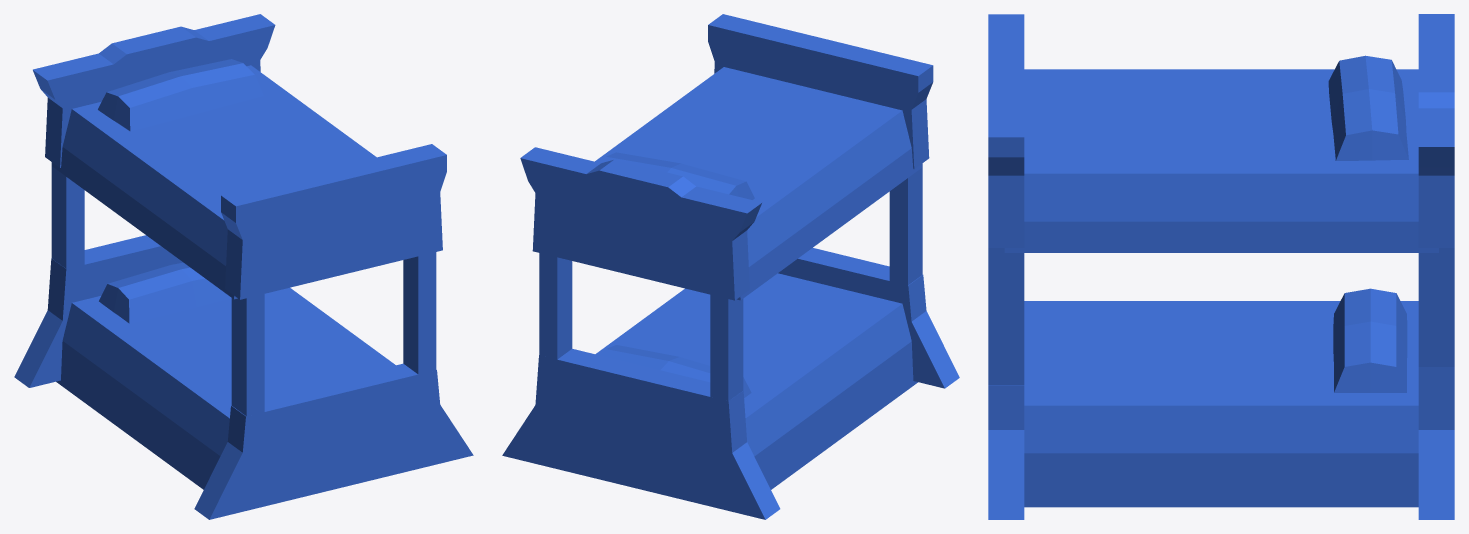
The model's file is Collision_Bed_Bunk.fbx.
3 views of the same model, side by side, from view 1: azimuth 30°, elevation 25°; view 2: azimuth 150°, elevation 25°; view 3: azimuth 270°, elevation 25° (orthographic). The views are drawn at different scales.
Visible parts, largest first — view 1: UCX_Bed_Bunk_01, UCX_Bed_Bunk_12, UCX_Bed_Bunk_03, UCX_Bed_Bunk_09, UCX_Bed_Bunk_08, UCX_Bed_Bunk_02, UCX_Bed_Bunk_10, UCX_Bed_Bunk_17, UCX_Bed_Bunk_06, UCX_Bed_Bunk_04, UCX_Bed_Bunk_14, UCX_Bed_Bunk_13 (+4 smaller); view 2: UCX_Bed_Bunk_12, UCX_Bed_Bunk_01, UCX_Bed_Bunk_05, UCX_Bed_Bunk_04, UCX_Bed_Bunk_11, UCX_Bed_Bunk_08, UCX_Bed_Bunk_10, UCX_Bed_Bunk_02, UCX_Bed_Bunk_14, UCX_Bed_Bunk_16, UCX_Bed_Bunk_15, UCX_Bed_Bunk_03 (+4 smaller); view 3: UCX_Bed_Bunk_01, UCX_Bed_Bunk_12, UCX_Bed_Bunk_17, UCX_Bed_Bunk_06, UCX_Bed_Bunk_08, UCX_Bed_Bunk_13, UCX_Bed_Bunk_15, UCX_Bed_Bunk_10, UCX_Bed_Bunk_03, UCX_Bed_Bunk_05, UCX_Bed_Bunk_09, UCX_Bed_Bunk_11 (+3 smaller).
Boxes of the visible parts, bbox=[...] form: UCX_Bed_Bunk_01: bbox=[56, 287, 395, 489]; UCX_Bed_Bunk_12: bbox=[52, 65, 376, 299]; UCX_Bed_Bunk_03: bbox=[194, 404, 473, 519]; UCX_Bed_Bunk_09: bbox=[225, 192, 442, 299]; UCX_Bed_Bunk_08: bbox=[221, 144, 446, 239]; UCX_Bed_Bunk_02: bbox=[227, 363, 440, 452]; UCX_Bed_Bunk_10: bbox=[33, 14, 275, 108]; UCX_Bed_Bunk_17: bbox=[98, 59, 263, 131]; UCX_Bed_Bunk_06: bbox=[99, 262, 231, 323]; UCX_Bed_Bunk_04: bbox=[47, 235, 182, 320]; UCX_Bed_Bunk_14: bbox=[231, 294, 264, 416]; UCX_Bed_Bunk_13: bbox=[403, 252, 436, 374]; UCX_Bed_Bunk_12: bbox=[595, 67, 921, 300]; UCX_Bed_Bunk_01: bbox=[595, 273, 917, 489]; UCX_Bed_Bunk_05: bbox=[502, 405, 780, 519]; UCX_Bed_Bunk_04: bbox=[535, 348, 746, 452]; UCX_Bed_Bunk_11: bbox=[532, 193, 749, 300]; UCX_Bed_Bunk_08: bbox=[708, 14, 933, 109]; UCX_Bed_Bunk_10: bbox=[520, 147, 761, 240]; UCX_Bed_Bunk_02: bbox=[778, 248, 926, 321]; UCX_Bed_Bunk_14: bbox=[889, 163, 922, 286]; UCX_Bed_Bunk_16: bbox=[710, 294, 743, 401]; UCX_Bed_Bunk_15: bbox=[539, 253, 572, 359]; UCX_Bed_Bunk_03: bbox=[907, 311, 959, 388]; UCX_Bed_Bunk_01: bbox=[1024, 301, 1418, 507]; UCX_Bed_Bunk_12: bbox=[1004, 69, 1438, 252]; UCX_Bed_Bunk_17: bbox=[1328, 55, 1408, 160]; UCX_Bed_Bunk_06: bbox=[1333, 288, 1407, 392]; UCX_Bed_Bunk_08: bbox=[988, 14, 1024, 175]; UCX_Bed_Bunk_13: bbox=[988, 248, 1024, 385]; UCX_Bed_Bunk_15: bbox=[1418, 248, 1454, 366]; UCX_Bed_Bunk_10: bbox=[1418, 14, 1454, 175]; UCX_Bed_Bunk_03: bbox=[988, 430, 1024, 519]; UCX_Bed_Bunk_05: bbox=[1418, 430, 1454, 519]; UCX_Bed_Bunk_09: bbox=[988, 175, 1024, 247]; UCX_Bed_Bunk_11: bbox=[1418, 175, 1454, 247].
Size of the model in its own units: 189 by 215 by 241.
